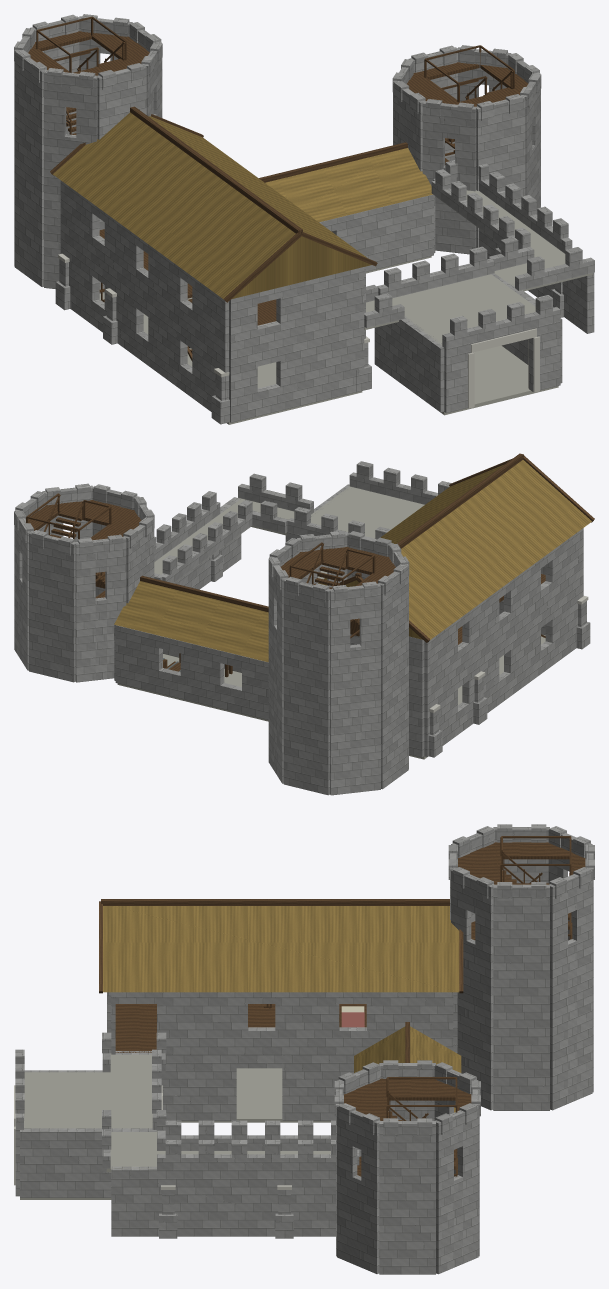
File: keep.glb
The picture shows the model from 3 angles, top to bottom: view 1: azimuth 30°, elevation 25°; view 2: azimuth 150°, elevation 25°; view 3: azimuth 270°, elevation 25°; orthographic projection. The views are drawn at different scales.
Parts seen in each view (by area): view 1: Keep_Shell_2_111, Keep_Roof_3_2, Keep_GroundFront_2_36, Keep_Upper_Wallwalk_1_35, Keep_Roof_3_48, Keep_Upper_Floor_2_4.001, Keep_Roof_3_6, Keep_Floor_1_5, Keep_Upper_Tower_Eastturret_Level2_Floor_1_16, Keep_Upper_Tower_Highwatch_Level3_Floor_1_16, Keep_GroundFront_2_6, Keep_Upper_Floor_2_4 (+1 smaller); view 2: Keep_Shell_2_111, Keep_Roof_3_2, Keep_Upper_Wallwalk_1_35, Keep_Roof_3_48, Keep_Upper_Floor_2_4.001, Keep_Roof_3_6, Keep_Upper_Tower_Eastturret_Level2_Floor_1_16, Keep_Upper_Tower_Highwatch_Level3_Floor_1_16, Keep_Floor_1_5, Keep_Tower_Eastturret_Level2_Stair_1_34, Keep_Tower_Highwatch_Level3_Stair_1_34; view 3: Keep_Shell_2_111, Keep_Roof_3_2, Keep_Upper_Shell_1_17, Keep_Roof_3_48, Keep_Upper_Wallwalk_1_35, Keep_GroundFront_2_36, Keep_Upper_Floor_2_4.001, Keep_Roof_3_6, Keep_Upper_Tower_Eastturret_Level2_Floor_1_16, Keep_Upper_Tower_Highwatch_Level3_Floor_1_16, Keep_Floor_1_5, Keep_Upper_Floor_2_4.
Part boxes in pixels (x1,y1,x2,y2): Keep_Shell_2_111: (14, 31, 594, 424); Keep_Roof_3_2: (53, 112, 432, 299); Keep_GroundFront_2_36: (229, 194, 560, 422); Keep_Upper_Wallwalk_1_35: (364, 160, 594, 349); Keep_Roof_3_48: (14, 14, 541, 121); Keep_Upper_Floor_2_4.001: (364, 190, 592, 345); Keep_Roof_3_6: (50, 106, 407, 302); Keep_Floor_1_5: (99, 256, 558, 424); Keep_Upper_Tower_Eastturret_Level2_Floor_1_16: (407, 45, 528, 106); Keep_Upper_Tower_Highwatch_Level3_Floor_1_16: (28, 16, 149, 75); Keep_GroundFront_2_6: (468, 328, 539, 408); Keep_Upper_Floor_2_4: (99, 229, 276, 325); Keep_Shell_2_111: (14, 484, 590, 795); Keep_Roof_3_2: (114, 460, 591, 662); Keep_Upper_Wallwalk_1_35: (154, 461, 451, 583); Keep_Roof_3_48: (14, 483, 409, 602); Keep_Upper_Floor_2_4.001: (154, 486, 424, 582); Keep_Roof_3_6: (140, 453, 594, 642); Keep_Upper_Tower_Eastturret_Level2_Floor_1_16: (26, 493, 141, 540); Keep_Upper_Tower_Highwatch_Level3_Floor_1_16: (281, 542, 395, 586); Keep_Floor_1_5: (75, 571, 545, 759); Keep_Tower_Eastturret_Level2_Stair_1_34: (43, 494, 105, 585); Keep_Tower_Highwatch_Level3_Stair_1_34: (306, 543, 359, 633); Keep_Shell_2_111: (20, 842, 593, 1274); Keep_Roof_3_2: (103, 906, 461, 1112); Keep_Upper_Shell_1_17: (111, 992, 453, 1054); Keep_Roof_3_48: (334, 824, 594, 1136); Keep_Upper_Wallwalk_1_35: (15, 1032, 359, 1170); Keep_GroundFront_2_36: (15, 992, 355, 1196); Keep_Upper_Floor_2_4.001: (24, 1053, 330, 1172); Keep_Roof_3_6: (99, 899, 463, 1062); Keep_Upper_Tower_Eastturret_Level2_Floor_1_16: (344, 1077, 471, 1120); Keep_Upper_Tower_Highwatch_Level3_Floor_1_16: (458, 836, 585, 884); Keep_Floor_1_5: (20, 1068, 550, 1273); Keep_Upper_Floor_2_4: (115, 1004, 366, 1052).
Bounding box in the file's own units: 23.71 × 11.32 × 25.48.
9 materials, 3 textured.
